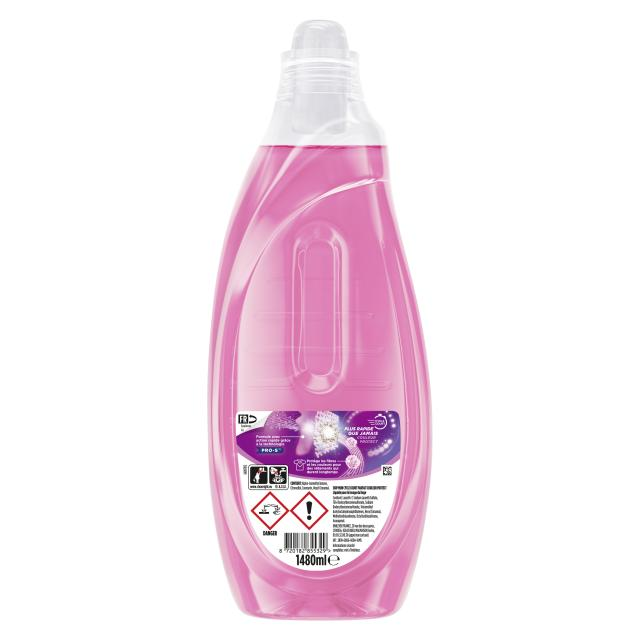GHS_Symbol_CORROSION: (250, 490, 290, 530)
GHS_Symbol_EXCLAMATION_MARK: (290, 490, 329, 530)
